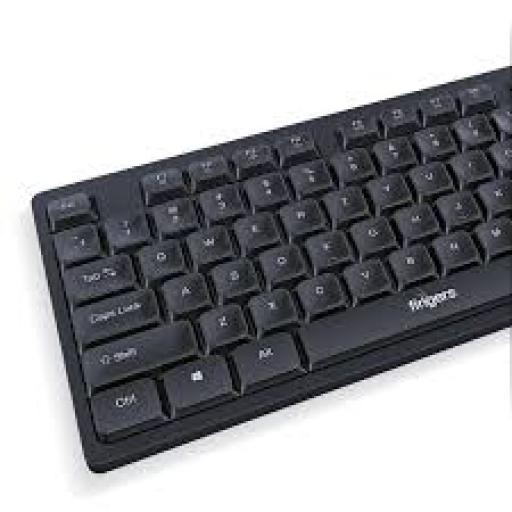keyboard: (34, 68, 510, 471)
